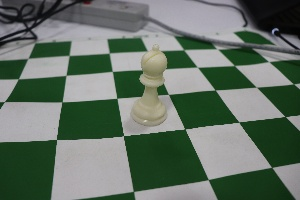white_bishop: (125, 37, 174, 132)
